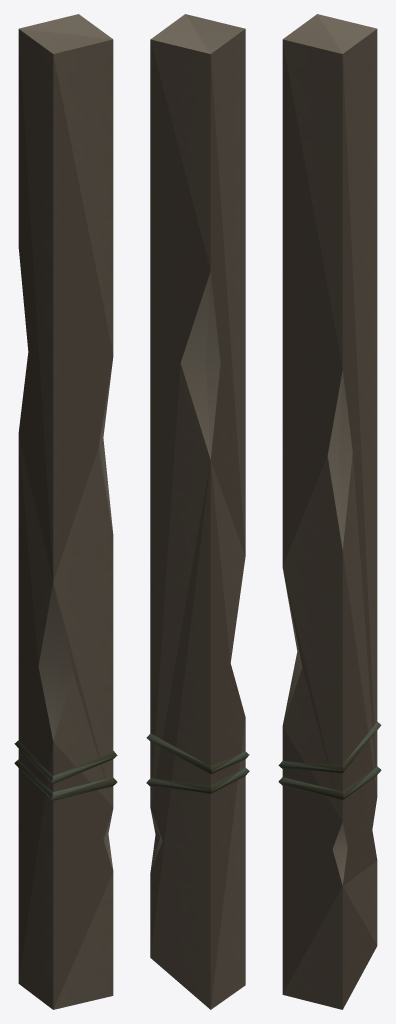
Rendered from Wood_9.fbx.
The picture shows the model from 3 angles, left to right: view 1: azimuth 30°, elevation 25°; view 2: azimuth 150°, elevation 25°; view 3: azimuth 330°, elevation 25°; orthographic projection.
Parts seen in each view (by area): view 1: polySurface1414; view 2: polySurface1414; view 3: polySurface1414.
Boxes of the visible parts, x1,y1,x2,y2 form: polySurface1414: (14, 14, 117, 1009); polySurface1414: (146, 14, 249, 1009); polySurface1414: (278, 14, 381, 1009).
Size of the model in its own units: 0.3597 by 5.01 by 0.3597.
